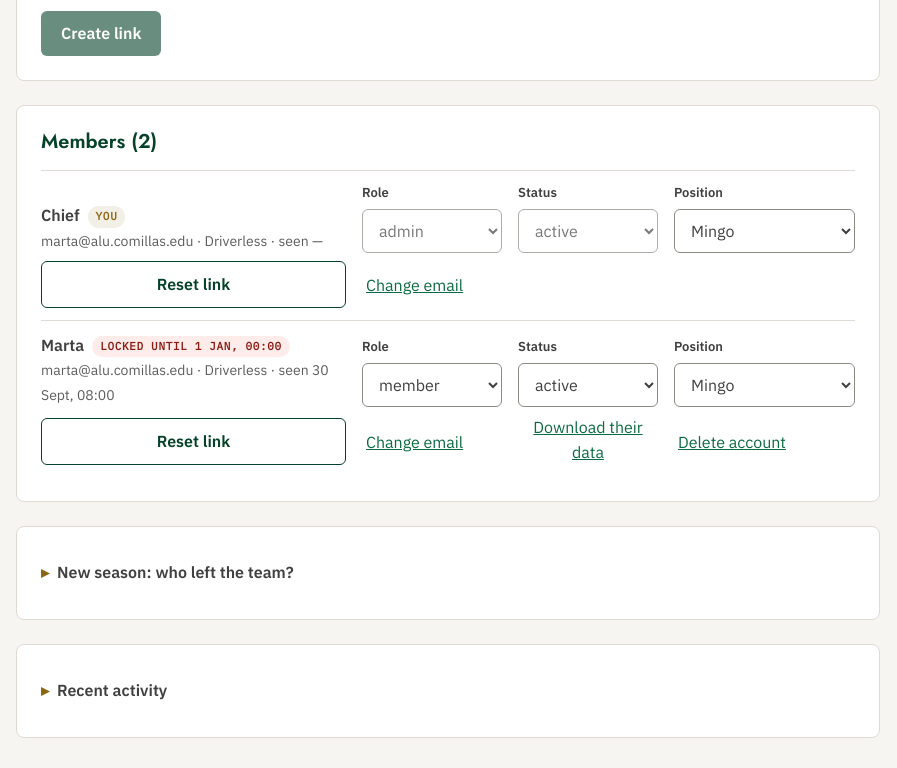
Test: a role change is confirmed on screen
(page scrolled)
Select "reviewer" in the dropdown labelled "Role" next to "30 Sept, 08:00": (432, 385) [362,363,502,407]
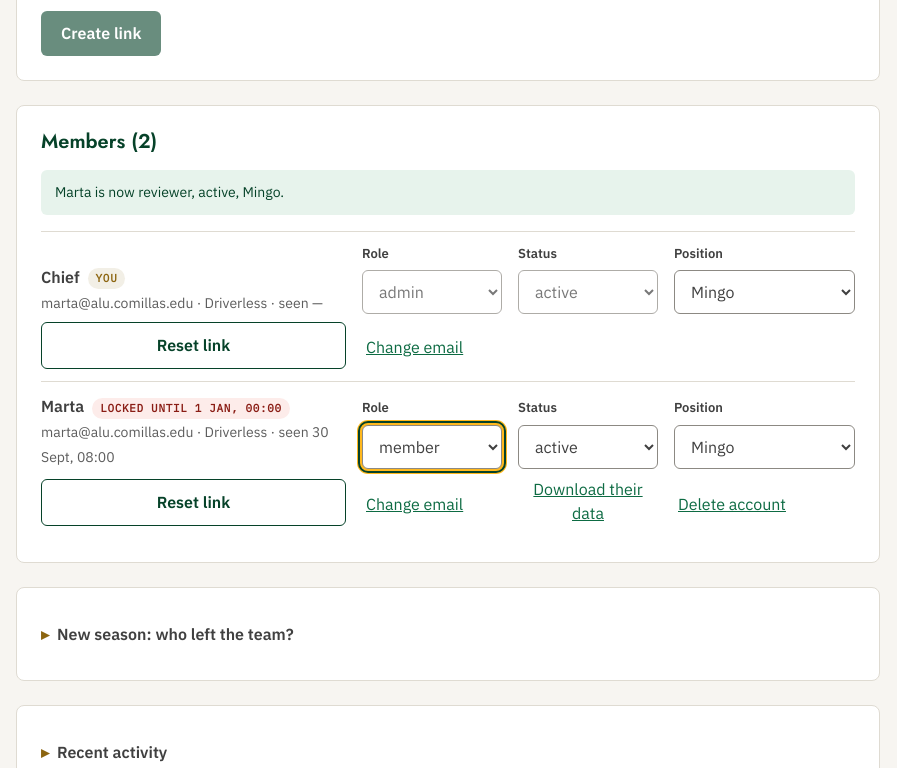
Result: the message reads "Marta is now reviewer, active, Mingo." at [55,183,284,201]
